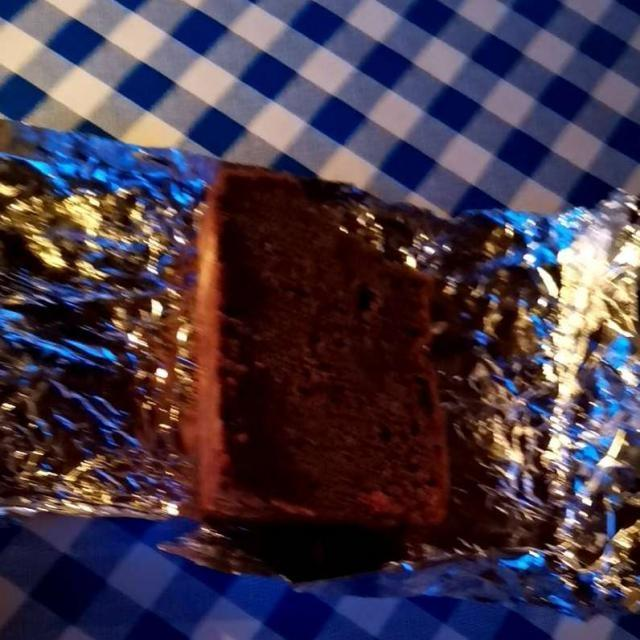brownie: (207, 176, 436, 531)
